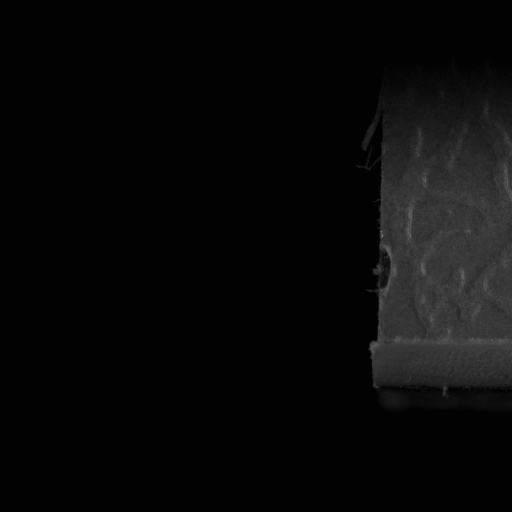bengque: (374, 244, 396, 295)
